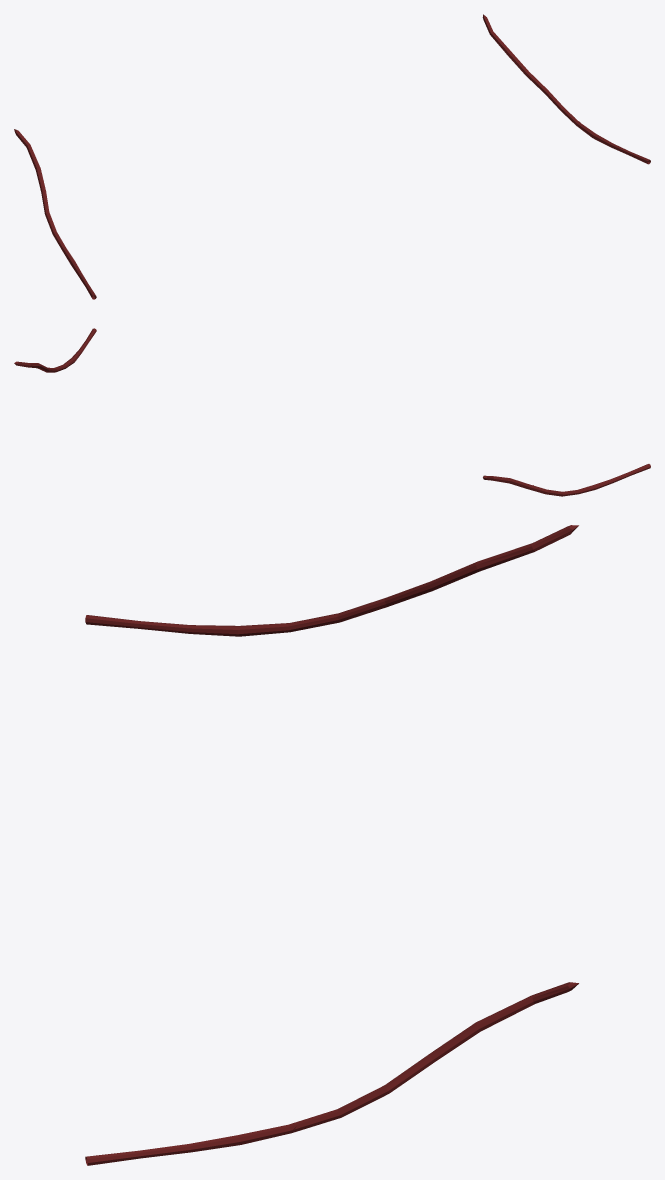
Rendered from Artéria Plantar Medial.FBX.
3 renders of one model, top to bottom at view 1: azimuth 30°, elevation 25°; view 2: azimuth 150°, elevation 25°; view 3: azimuth 270°, elevation 25°, orthographic. The views are drawn at different scales.
Parts seen in each view (by area): view 1: CS_Arterie; view 2: CS_Arterie; view 3: CS_Arterie.
Boxes of the visible parts, box(x1,y1,x2,y2) form: CS_Arterie: box(14, 14, 650, 299); CS_Arterie: box(14, 328, 650, 496); CS_Arterie: box(85, 525, 578, 1165).
Bounding box in the file's own units: 1237 × 149 × 474.
